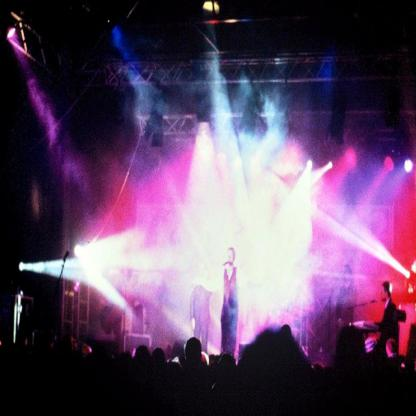face: (381, 287, 387, 301), (344, 270, 350, 281), (229, 251, 234, 263), (387, 346, 392, 357)
